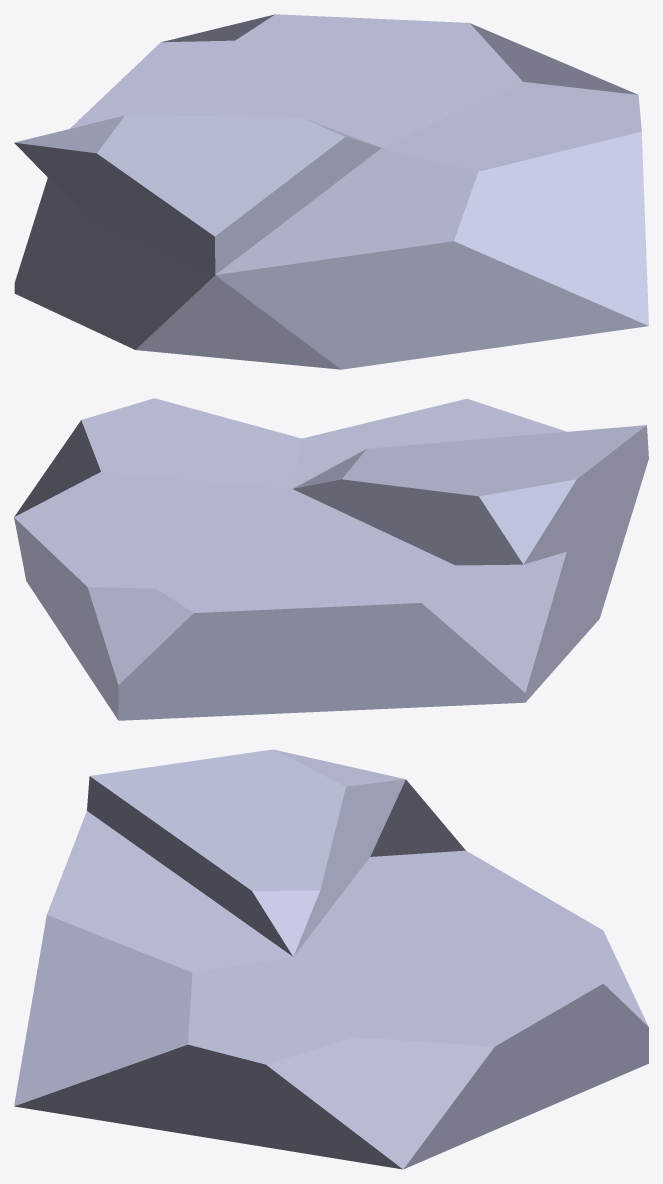
Rendered from Stone.fbx.
3 views of the same model, one above another, from view 1: azimuth 30°, elevation 25°; view 2: azimuth 150°, elevation 25°; view 3: azimuth 270°, elevation 25° (orthographic). The views are drawn at different scales.
Parts seen in each view (by area): view 1: Circle; view 2: Circle; view 3: Circle.
Boxes of the visible parts, x1,y1,x2,y2 form: Circle: (14, 14, 648, 369); Circle: (14, 398, 648, 720); Circle: (14, 749, 648, 1169).
Bounding box in the file's own units: 170 × 55.06 × 179.
